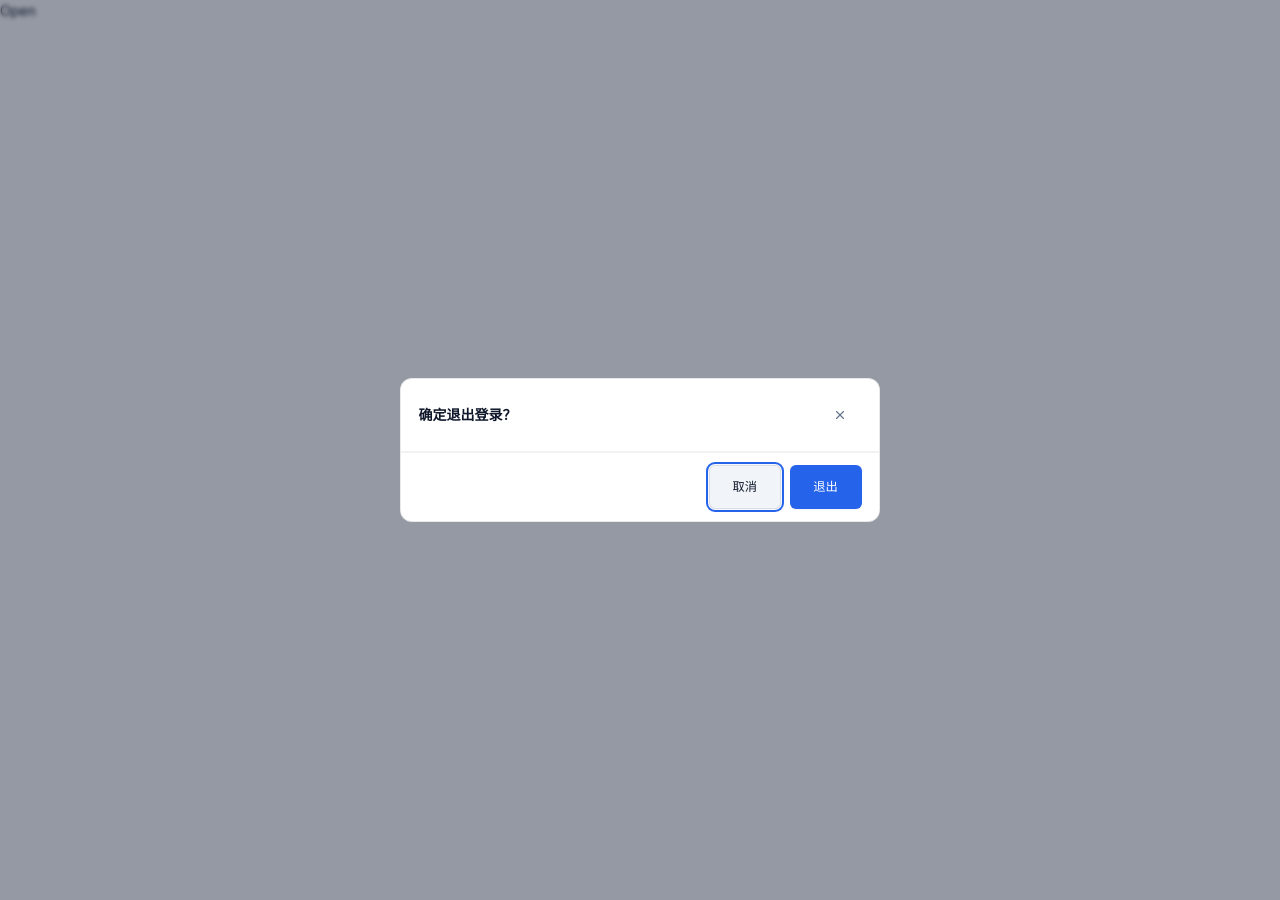
Test case: shared confirmation promises › resolves true only after explicit confirmation, locks scroll and returns focus
Expected: the button "取消" is shown, [709,465,781,509]
What coordinates should you click on to do the following:
click the button "退出"
I would click on:
 (826, 487)
Its box is [790,465,862,509].
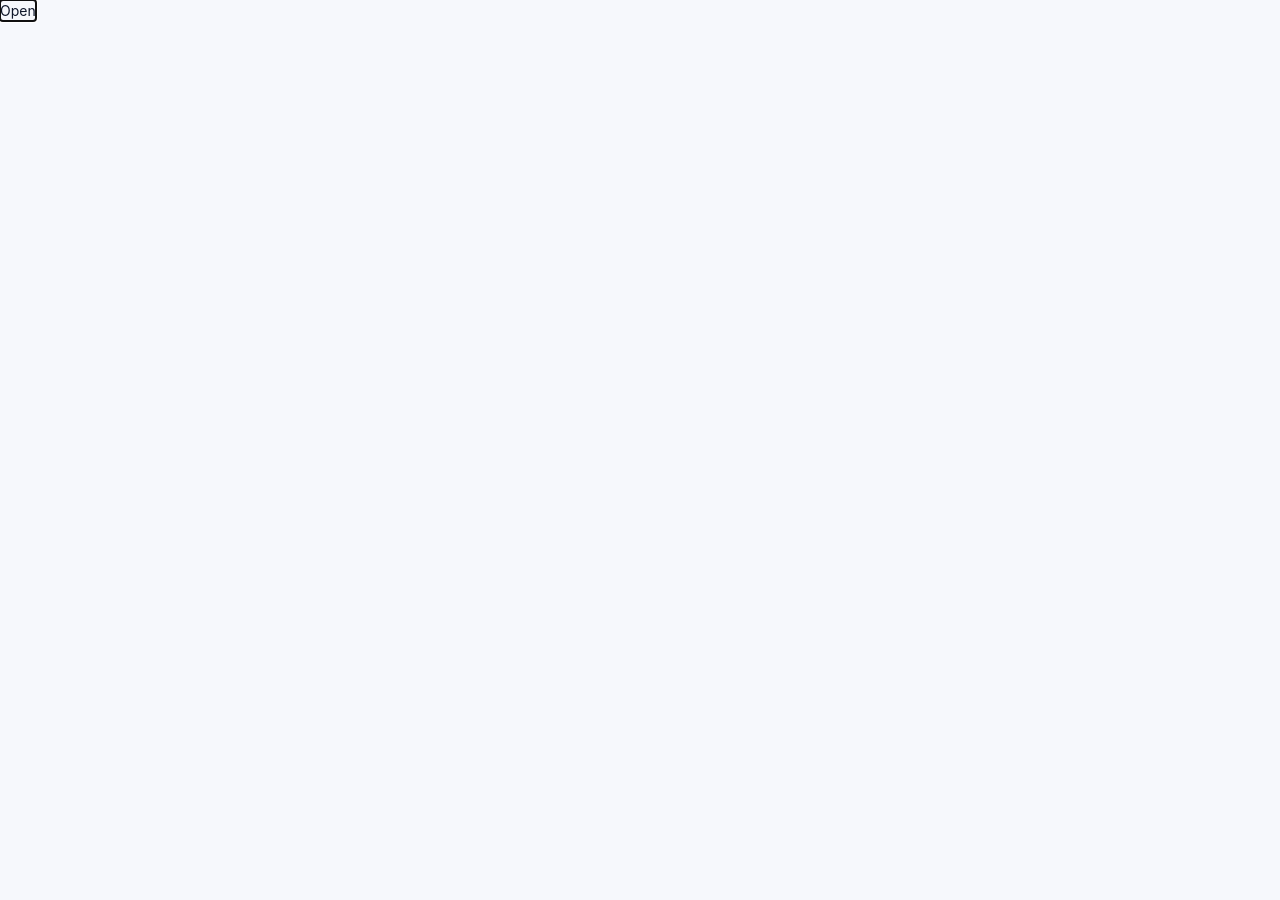
Result: the dialog is gone
